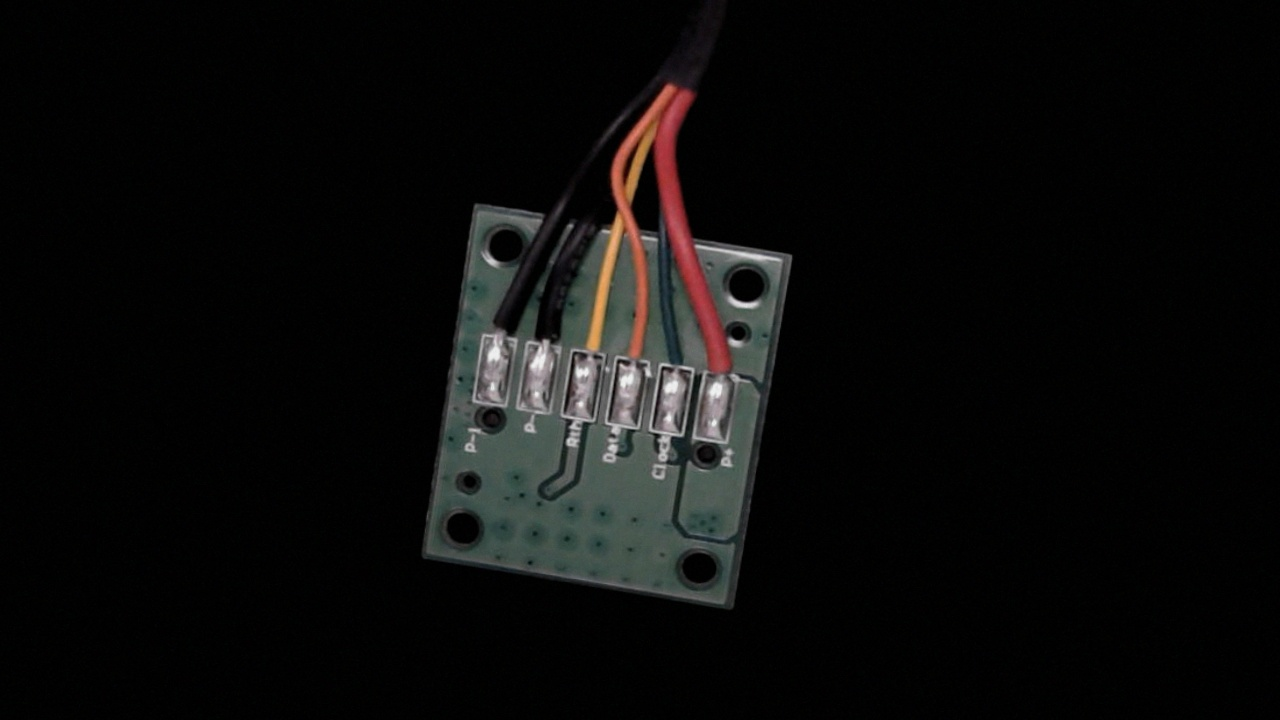Black: (522, 282, 574, 368)
Black1: (475, 277, 520, 358)
Green: (657, 316, 700, 388)
Orange: (609, 297, 659, 381)
Red: (698, 317, 746, 396)
Yellow: (568, 287, 620, 374)
